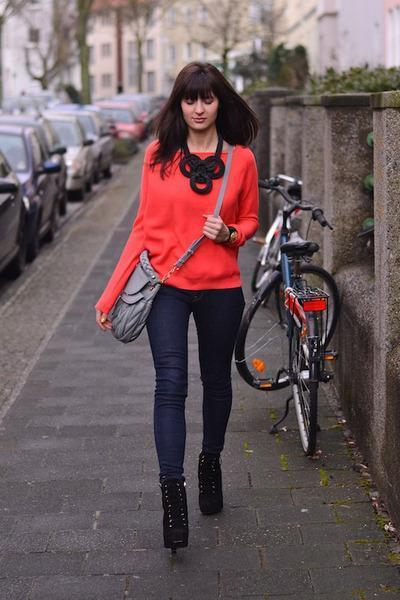jacket: (96, 145, 258, 312)
pants: (132, 281, 251, 467)
shoe: (159, 444, 223, 553)
